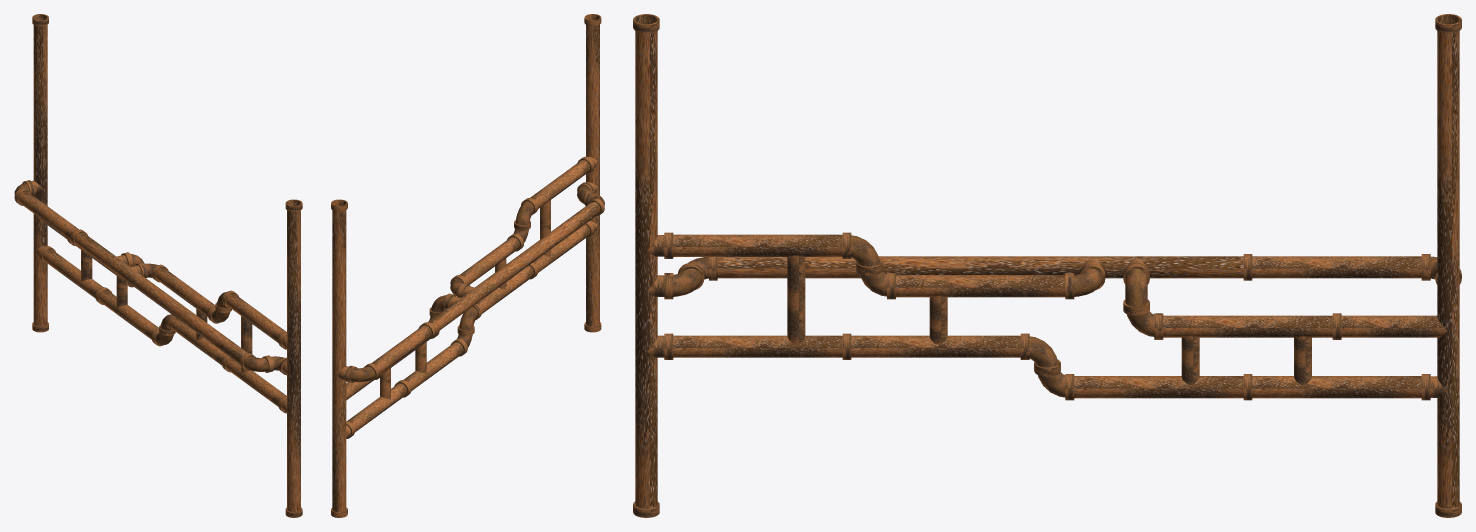
The model's file is pipe.fbx.
The picture shows the model from 3 angles, left to right: view 1: azimuth 30°, elevation 25°; view 2: azimuth 150°, elevation 25°; view 3: azimuth 270°, elevation 25°; orthographic projection. The views are drawn at different scales.
Visible parts, largest first — view 1: pCylinder72, pCylinder69, pCylinder71, pCylinder58, pCylinder70, pCylinder73; view 2: pCylinder72, pCylinder69, pCylinder71, pCylinder70, pCylinder58, pCylinder73; view 3: pCylinder72, pCylinder69, pCylinder73, pCylinder71, pCylinder70, pCylinder58.
Part boxes in pixels (left/top/right/bottom): pCylinder72: left=14, top=14, right=302, bottom=517; pCylinder69: left=135, top=262, right=231, bottom=323; pCylinder71: left=95, top=286, right=173, bottom=346; pCylinder58: left=222, top=339, right=286, bottom=413; pCylinder70: left=159, top=314, right=227, bottom=365; pCylinder73: left=67, top=238, right=133, bottom=288; pCylinder72: left=331, top=14, right=604, bottom=517; pCylinder69: left=450, top=220, right=530, bottom=297; pCylinder71: left=394, top=327, right=474, bottom=397; pCylinder70: left=457, top=265, right=533, bottom=335; pCylinder58: left=529, top=221, right=594, bottom=279; pCylinder73: left=375, top=308, right=439, bottom=380; pCylinder72: left=633, top=14, right=1461, bottom=517; pCylinder69: left=856, top=258, right=1105, bottom=325; pCylinder73: left=1123, top=299, right=1341, bottom=353; pCylinder71: left=1034, top=350, right=1252, bottom=400; pCylinder70: left=851, top=320, right=1060, bottom=376; pCylinder58: left=664, top=290, right=851, bottom=359.
Size of the model in its own units: 1.6 by 12.2 by 18.6.
Materials: 1 (1 with a texture image).
